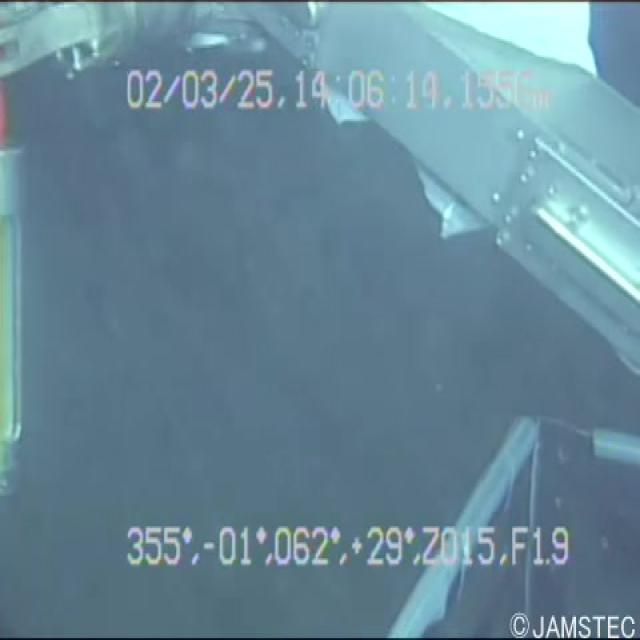plastic: (312, 0, 607, 263)
